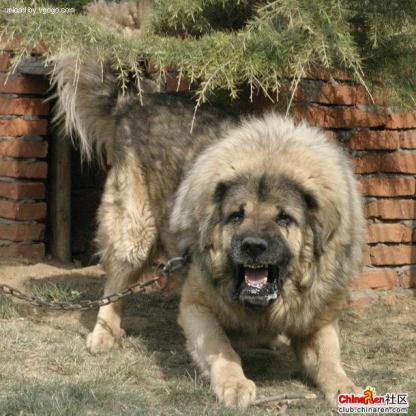Tibetan_mastiff: (57, 49, 371, 413)
